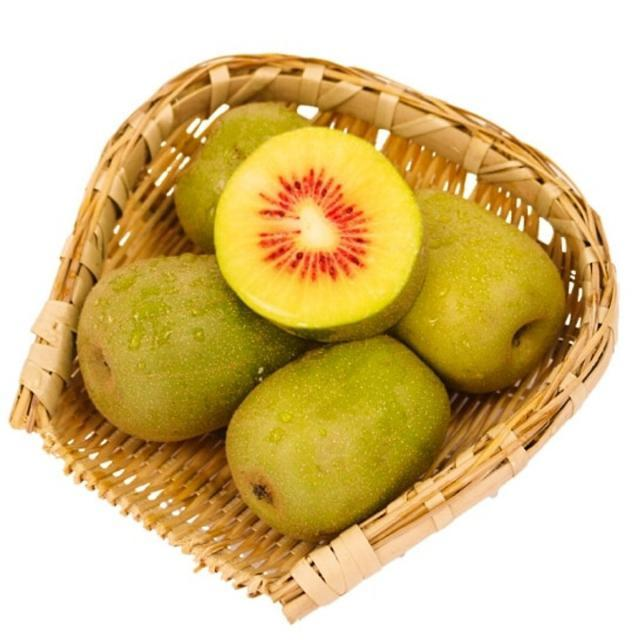kiwi: (225, 333, 455, 545), (77, 254, 310, 446), (387, 186, 570, 401), (172, 104, 352, 259)
